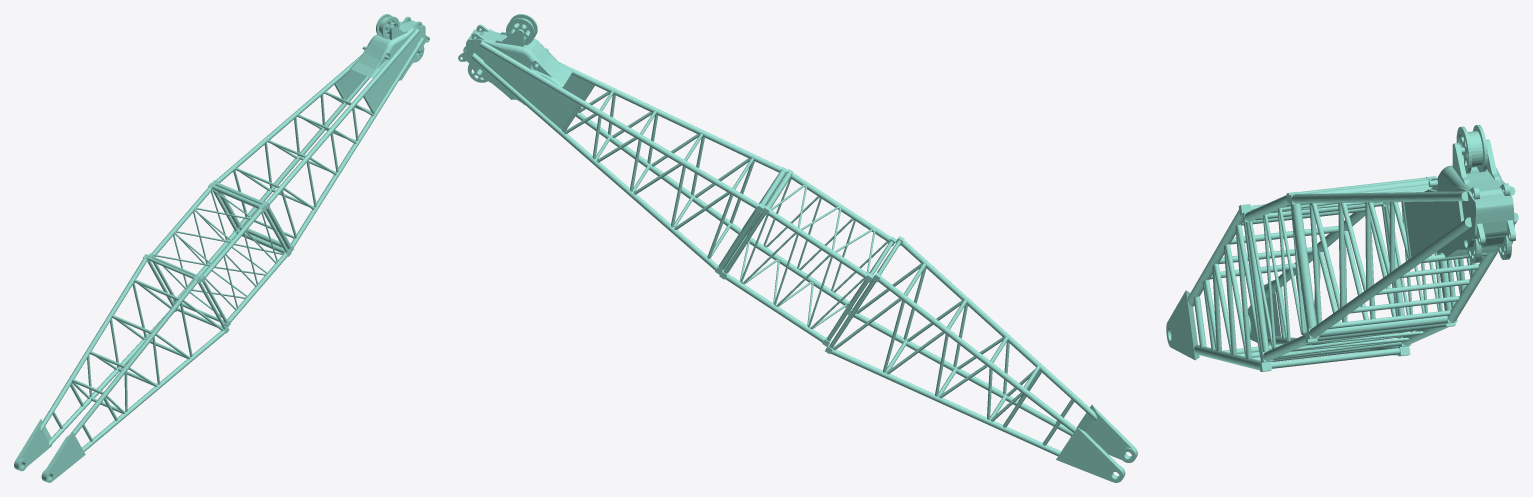
Rendered from boom1.obj.
3 views of the same model, side by side, from view 1: azimuth 30°, elevation 25°; view 2: azimuth 150°, elevation 25°; view 3: azimuth 270°, elevation 25° (orthographic). The views are drawn at different scales.
Parts seen in each view (by area): view 1: Imported1_DC_Shell; view 2: Imported1_DC_Shell; view 3: Imported1_DC_Shell.
Boxes of the visible parts, x1,y1,x2,y2 form: Imported1_DC_Shell: (14,14,429,482); Imported1_DC_Shell: (458,14,1137,482); Imported1_DC_Shell: (1166,125,1518,371).
Size of the model in its own units: 848 by 533 by 274.
